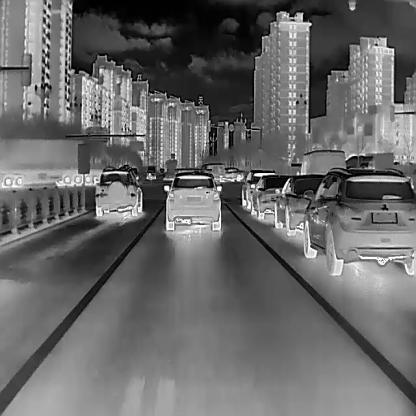car: (300, 164, 415, 275), (162, 164, 222, 232), (273, 172, 332, 236), (94, 165, 142, 217), (249, 172, 291, 219), (238, 166, 276, 208), (298, 148, 346, 179), (201, 161, 225, 179), (223, 166, 244, 182), (146, 164, 157, 180)
truck: (0, 136, 103, 187), (359, 150, 394, 172)
